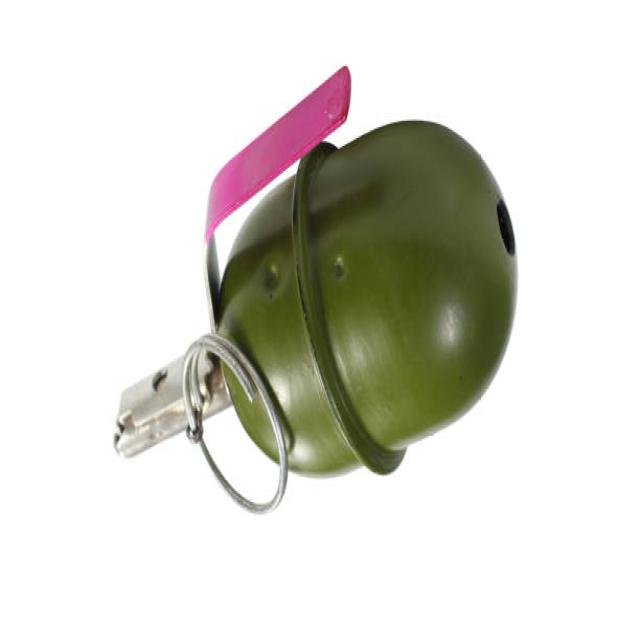grenade: (112, 63, 519, 524)
